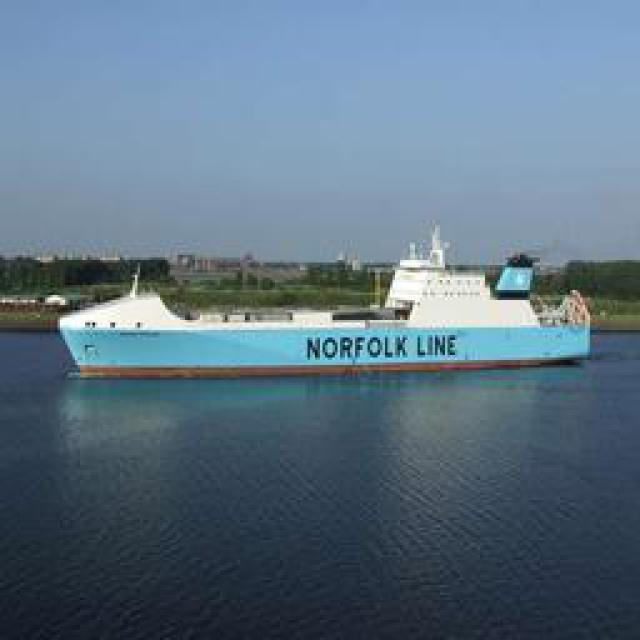Ship: (71, 251, 596, 376)
